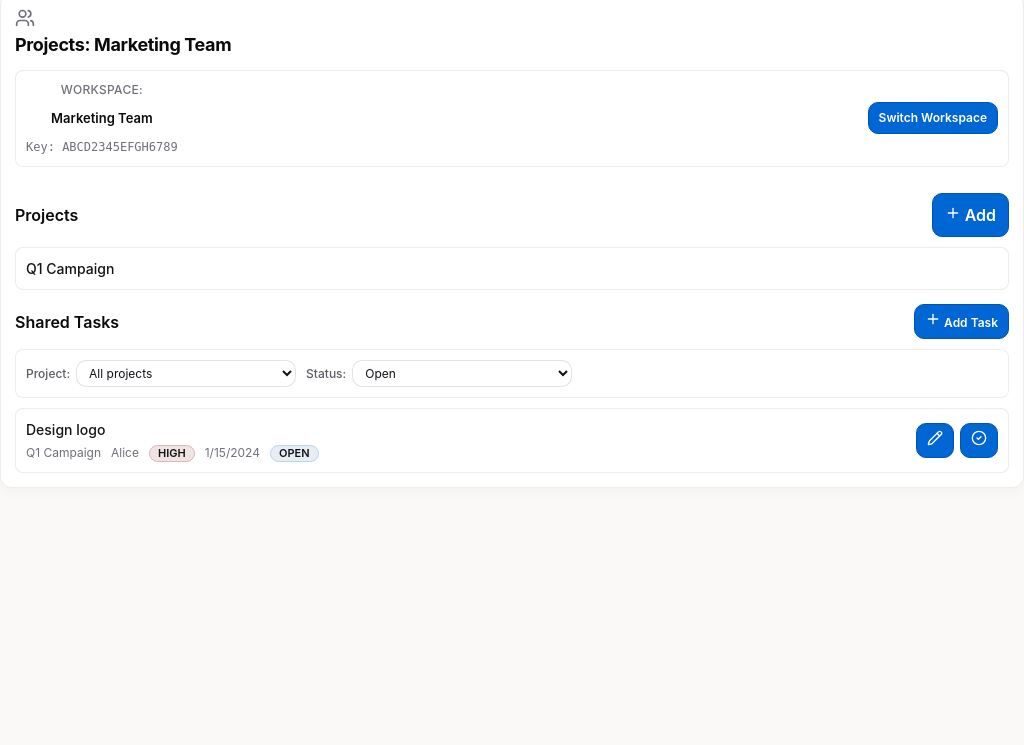
Test case: ProjectsPanel › Task editor › recurrence without due date shows validation error and does not save
Click the button titled "Edit task": coordinates (935, 441) [916, 423, 954, 458]
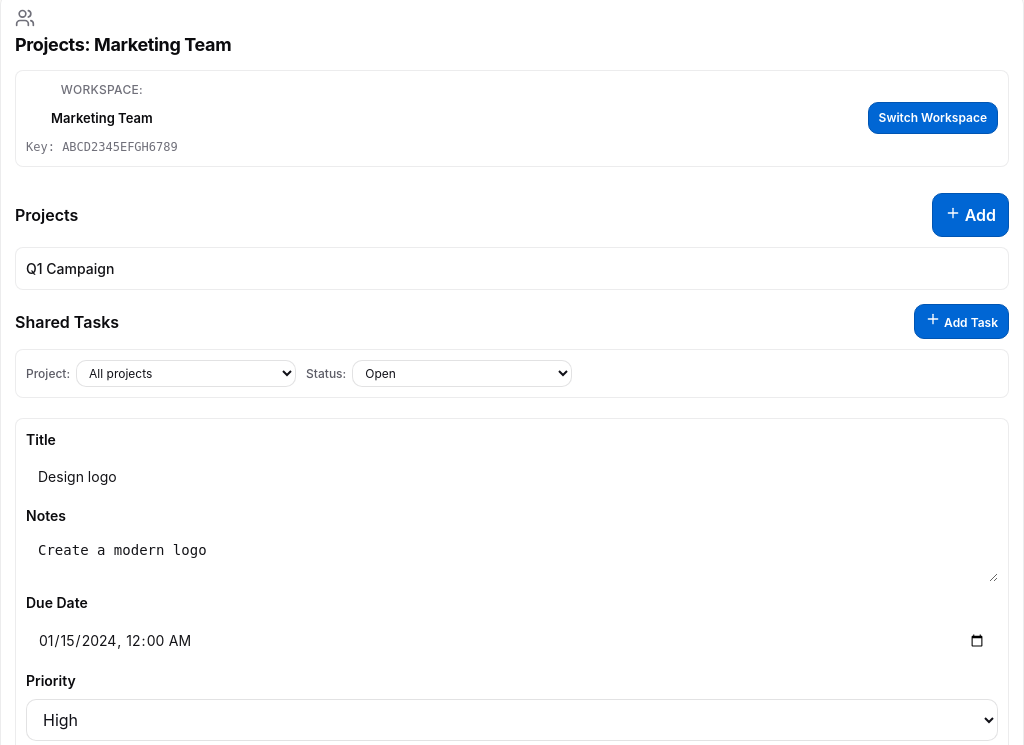
Clear the field labelled "Due Date": coordinates (512, 641) [26, 621, 998, 660]
(page scrolled)
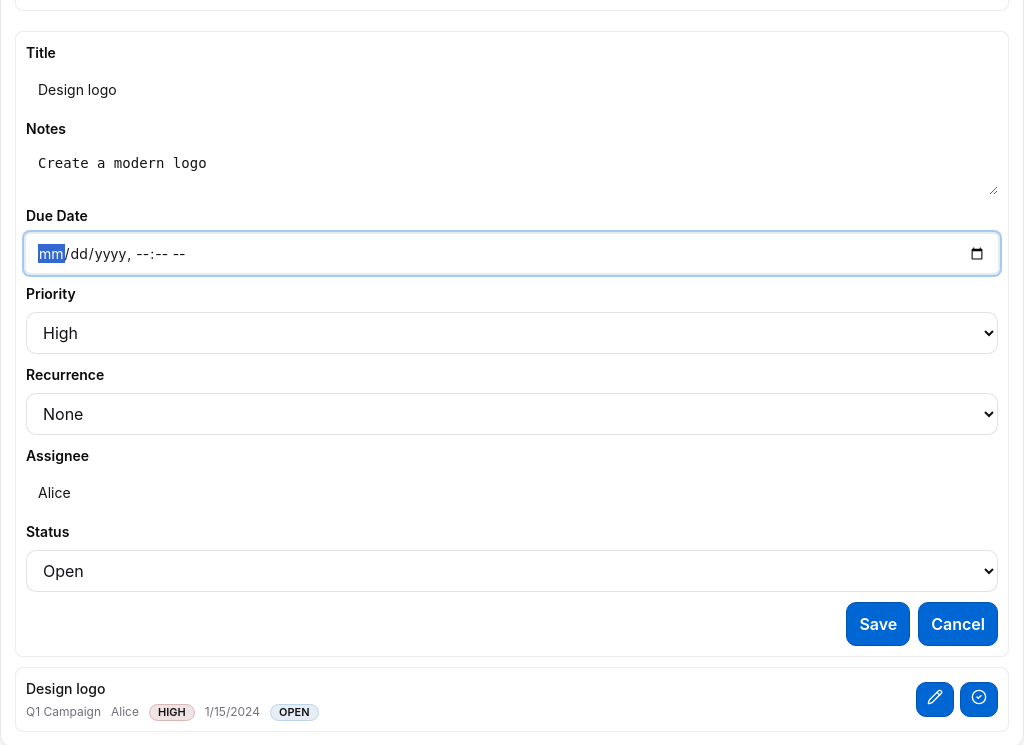
Select "Daily" in the dropdown labelled "Recurrence": coordinates (512, 414) [26, 393, 998, 435]
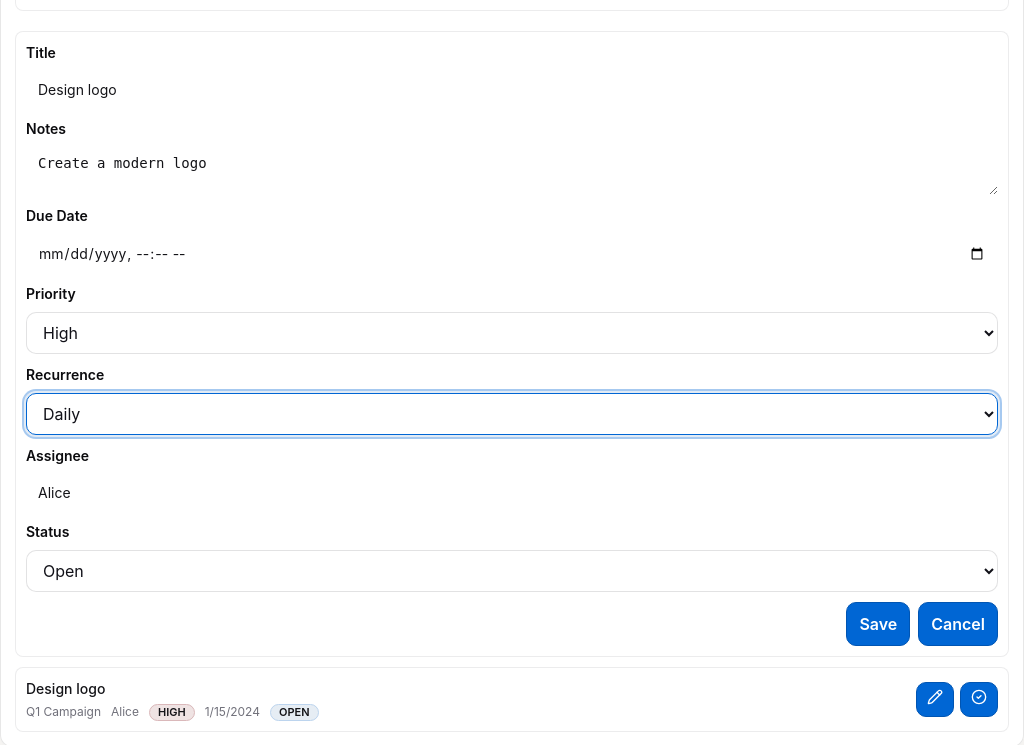
Click the button "Save": coordinates (878, 624) [846, 602, 910, 646]
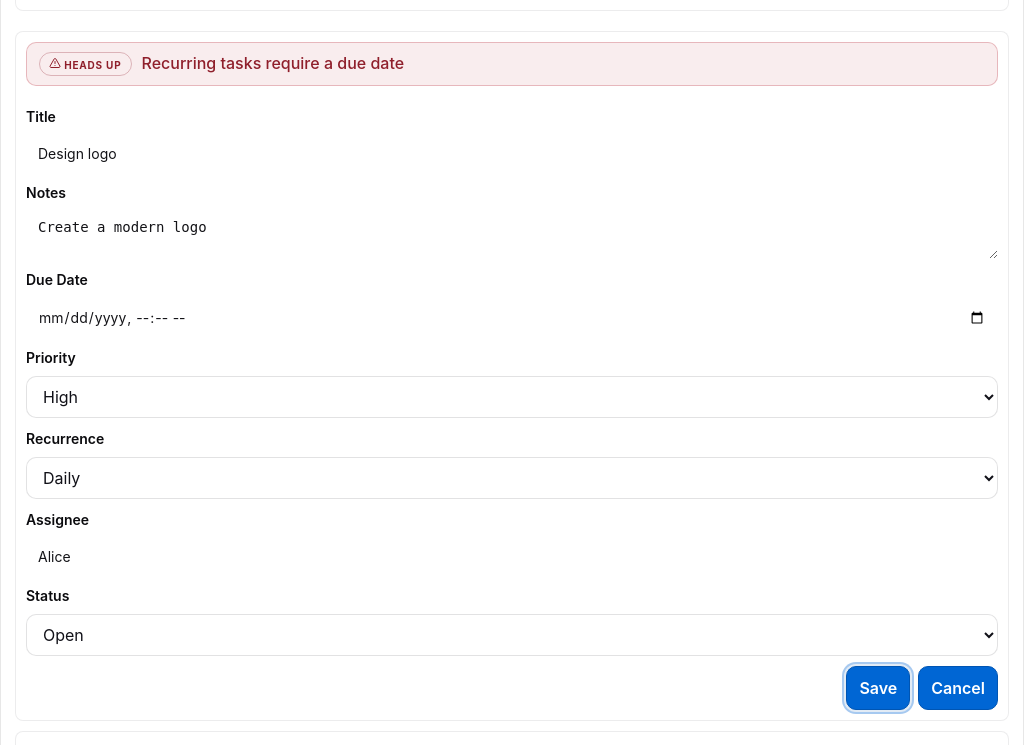
Expected: the text "Recurring tasks require a due date" is shown, [142, 53, 404, 73]
